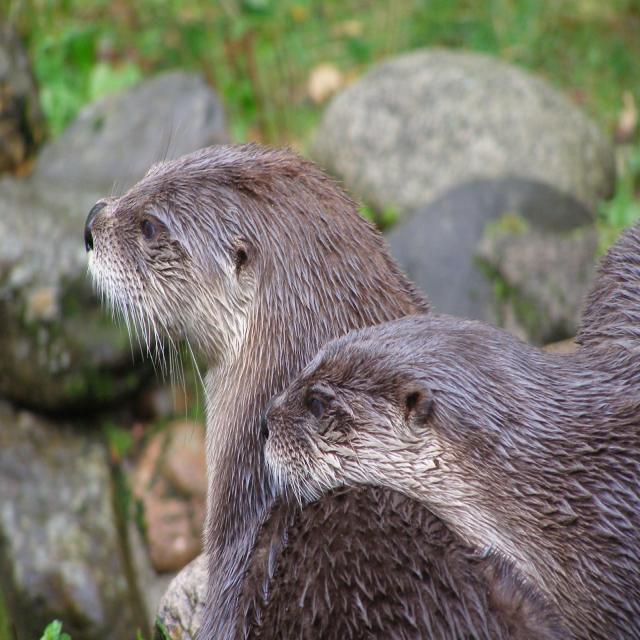otter: (91, 147, 513, 640), (265, 323, 640, 507)
